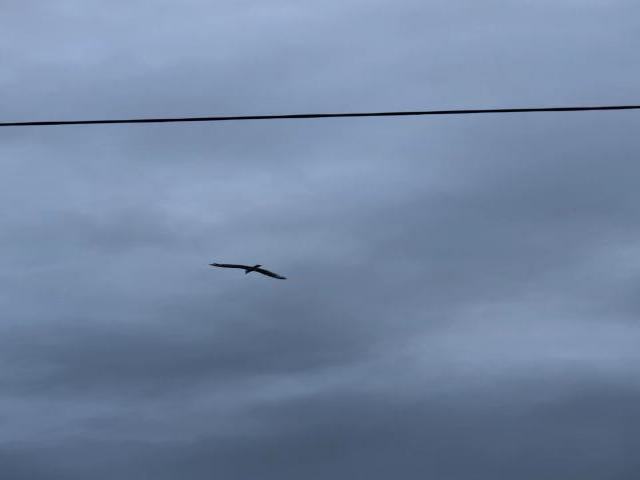bird: (202, 256, 299, 288)
